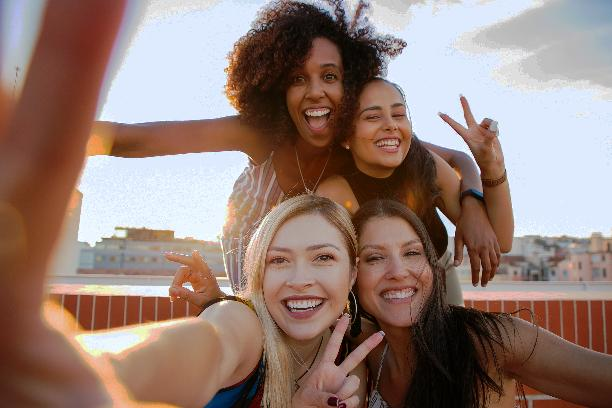Scissors: (290, 311, 387, 408), (437, 93, 507, 170)
